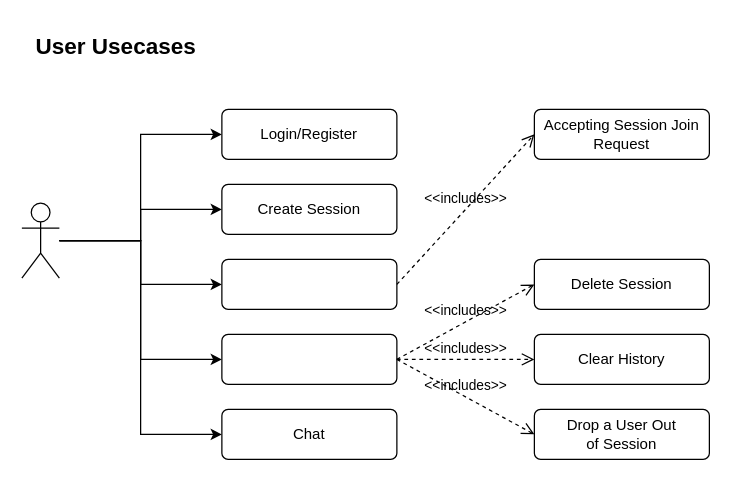
Some shapes in this 731 by 481 pixel diagram are drawn without their labels. Here are the shapes that lost their labels. From the top down, the box of each, then its label:
(21, 202, 59, 278): User
(221, 258, 397, 309): Join Session
(221, 333, 397, 384): Manage Session
